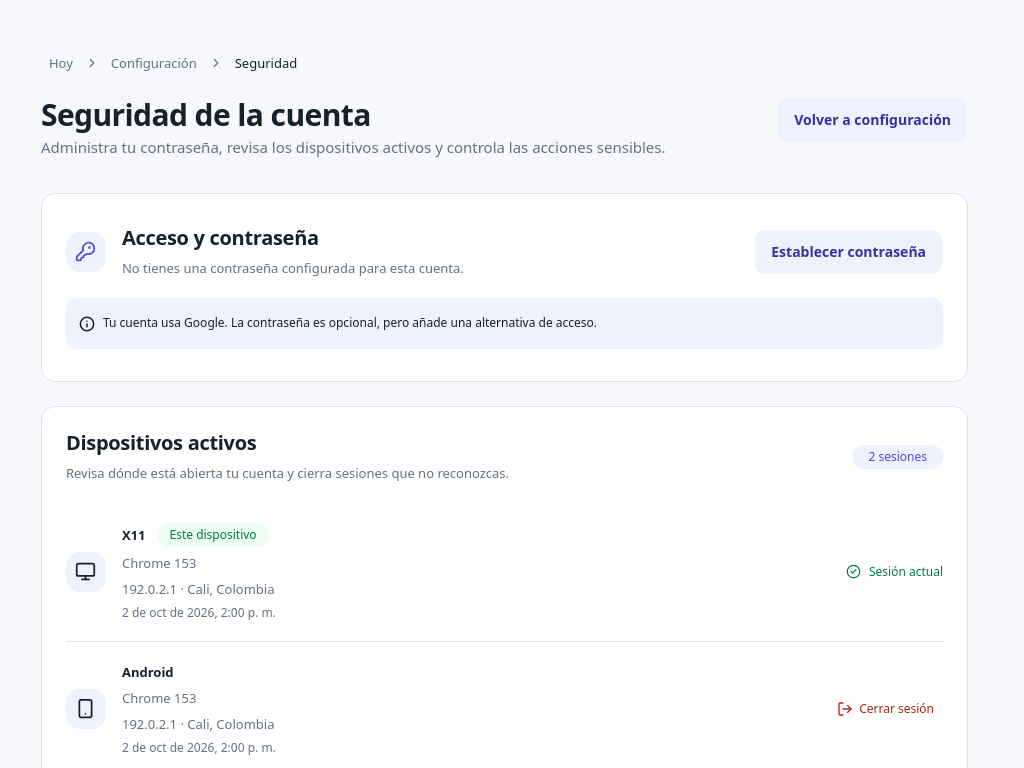
Test: SecurityPage › mantiene visible la sesión que no se pudo revocar
Click the button with aria-label "Cerrar sesión: Android".
click(886, 709)  # box [828,687,943,731]
(page scrolled)
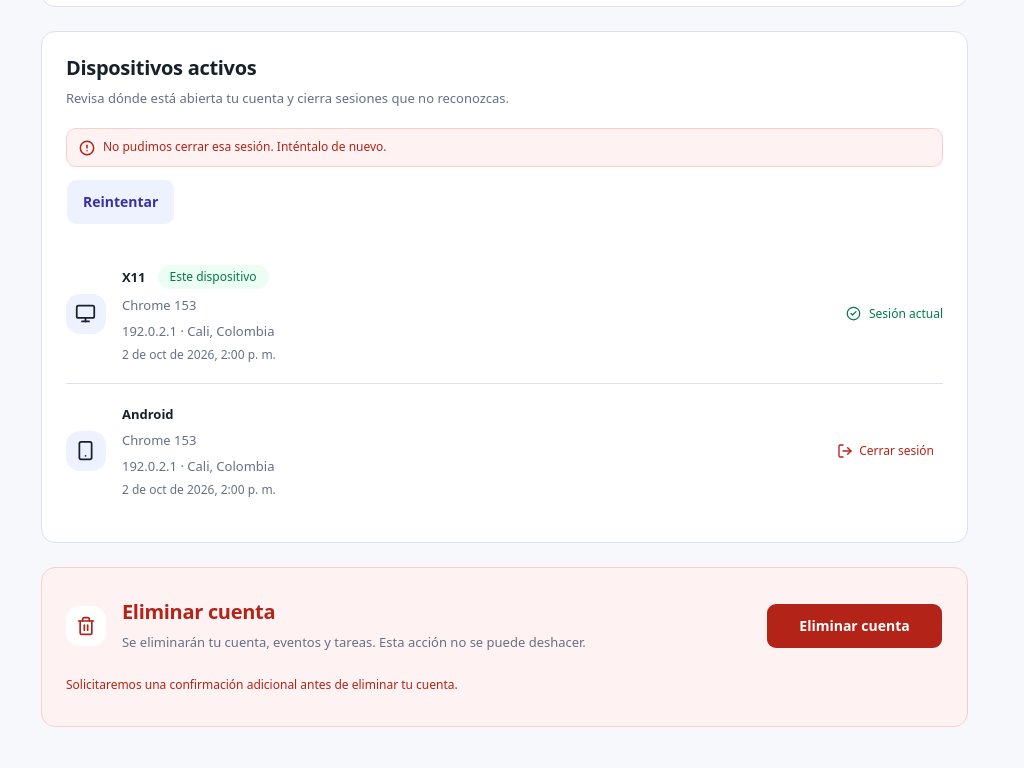
Expected: the button with aria-label "Cerrar sesión: Android" is shown, [828,429,943,473]
Expected: the text "No pudimos cerrar esa sesión. Inténtalo de nuevo." is shown, [103,139,387,155]
